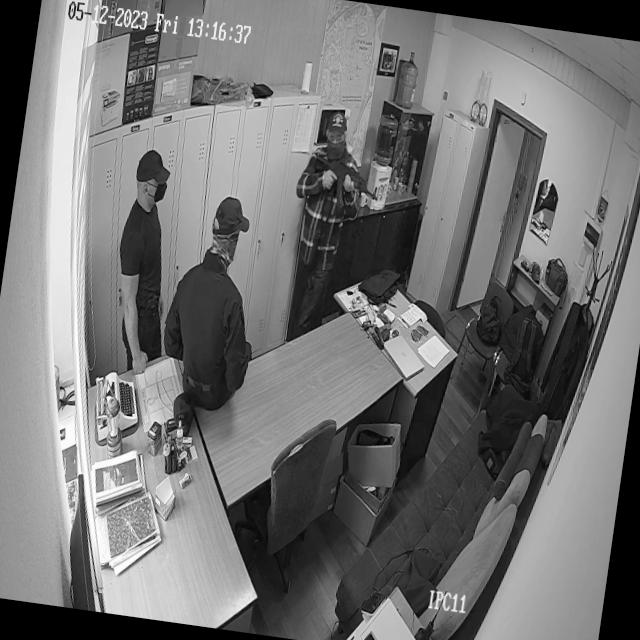gun: (306, 158, 384, 212), (518, 256, 532, 274)
person: (162, 192, 274, 410), (104, 149, 190, 363)
person with a gun: (279, 104, 392, 338)
